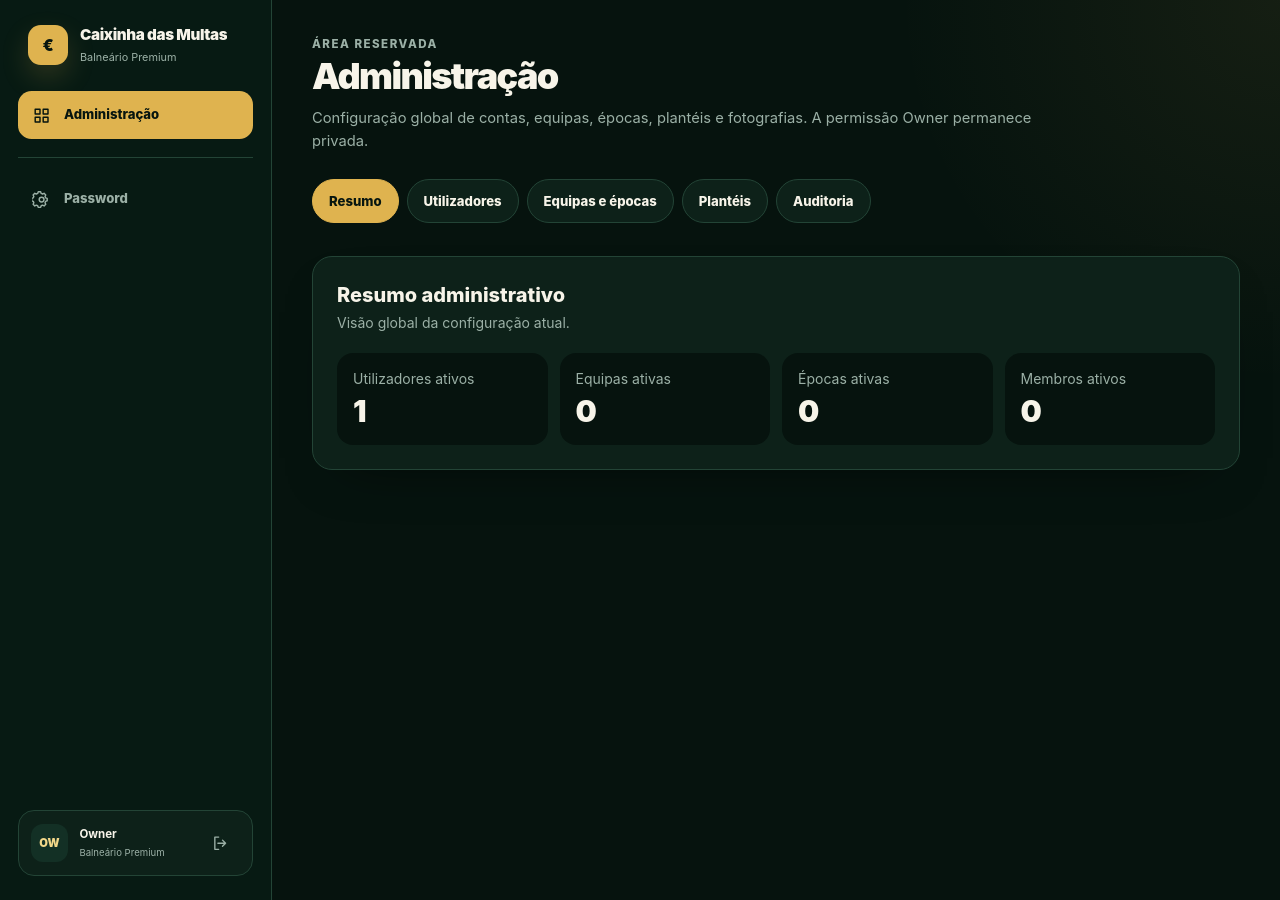
Test case: Painel Super Admin › apresenta exclusivamente ao Owner todas as secções administrativas
This screenshot has width=1280, height=900.
Expected: the heading "Administração" is shown, [312,54,558,98]
Expected: the text "Utilizadores ativos" is shown, [353,370,474,387]
Click the button "Auditoria": (823, 201) [776,179,871,223]
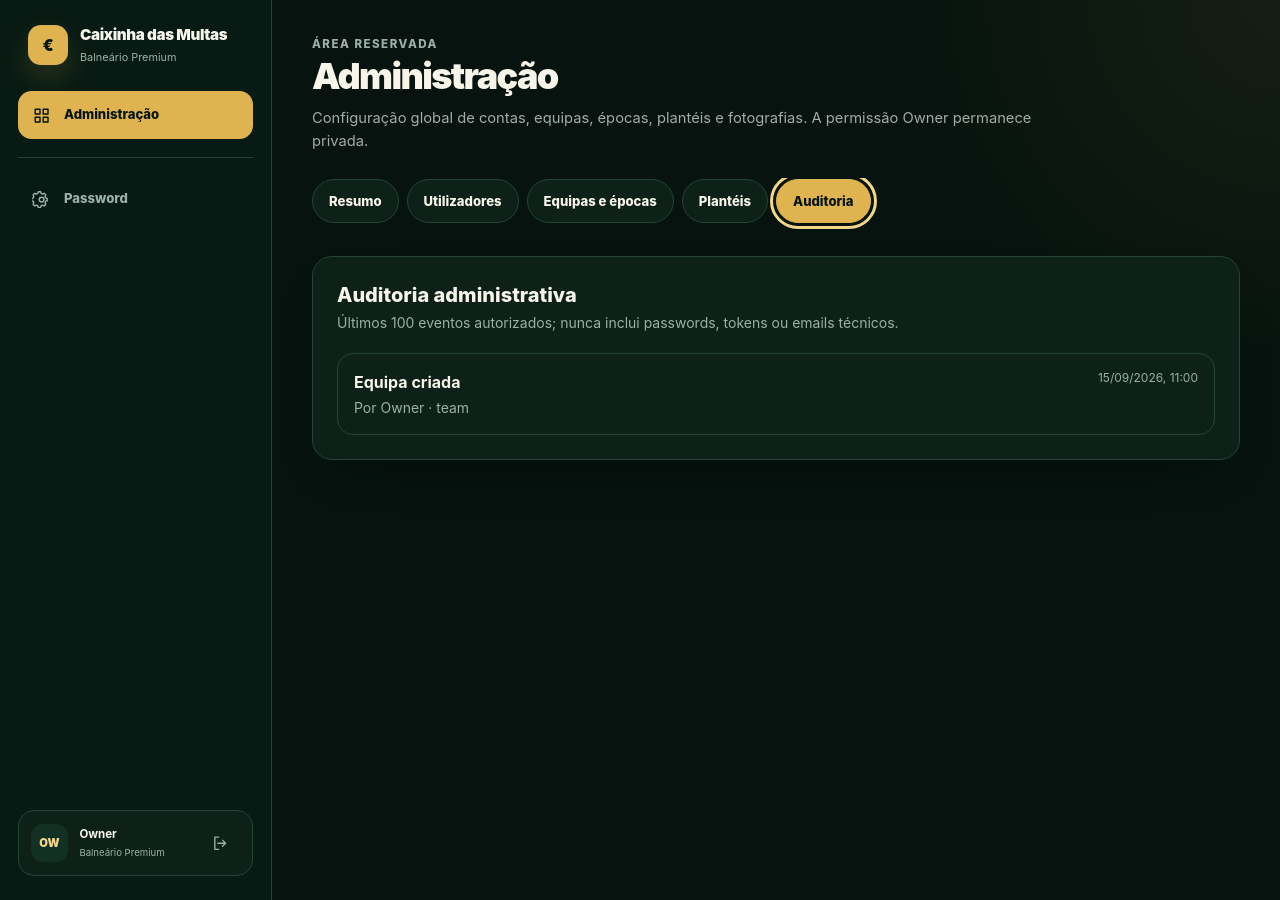
Expected: the text "Equipa criada" is shown, [354,370,460,394]
